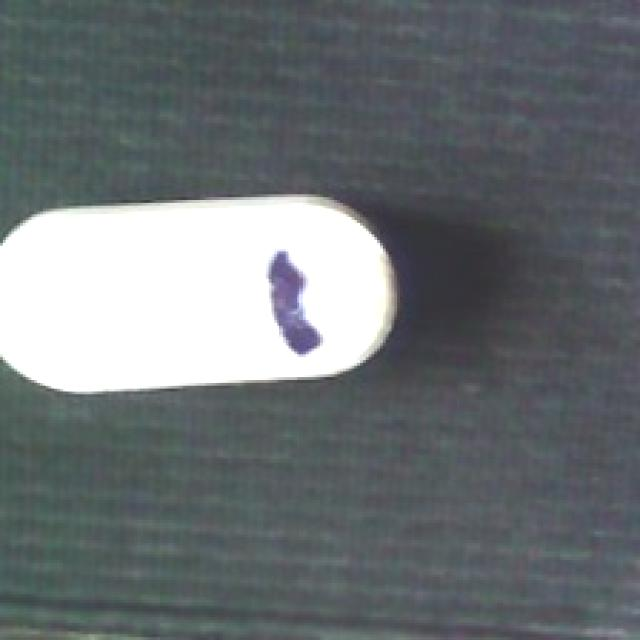defected: (3, 194, 411, 397)
